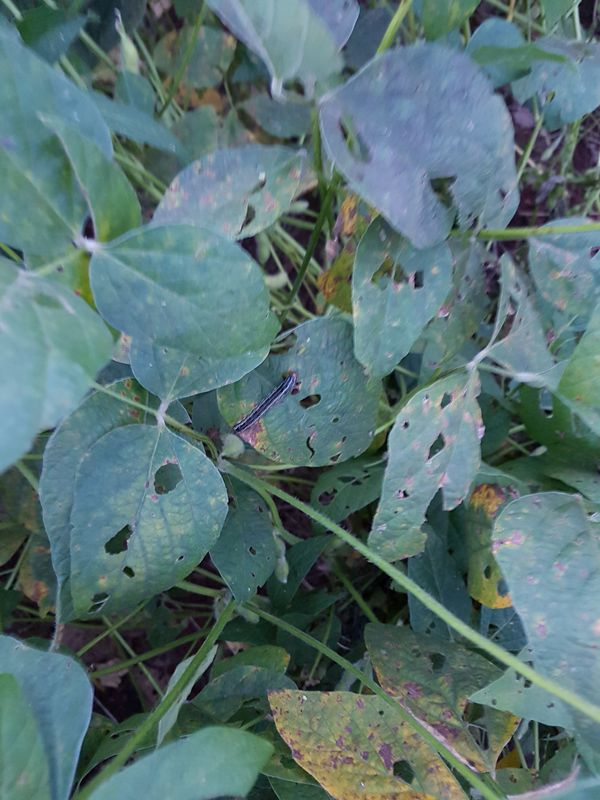Spodoptera_albula: (224, 365, 313, 439)
